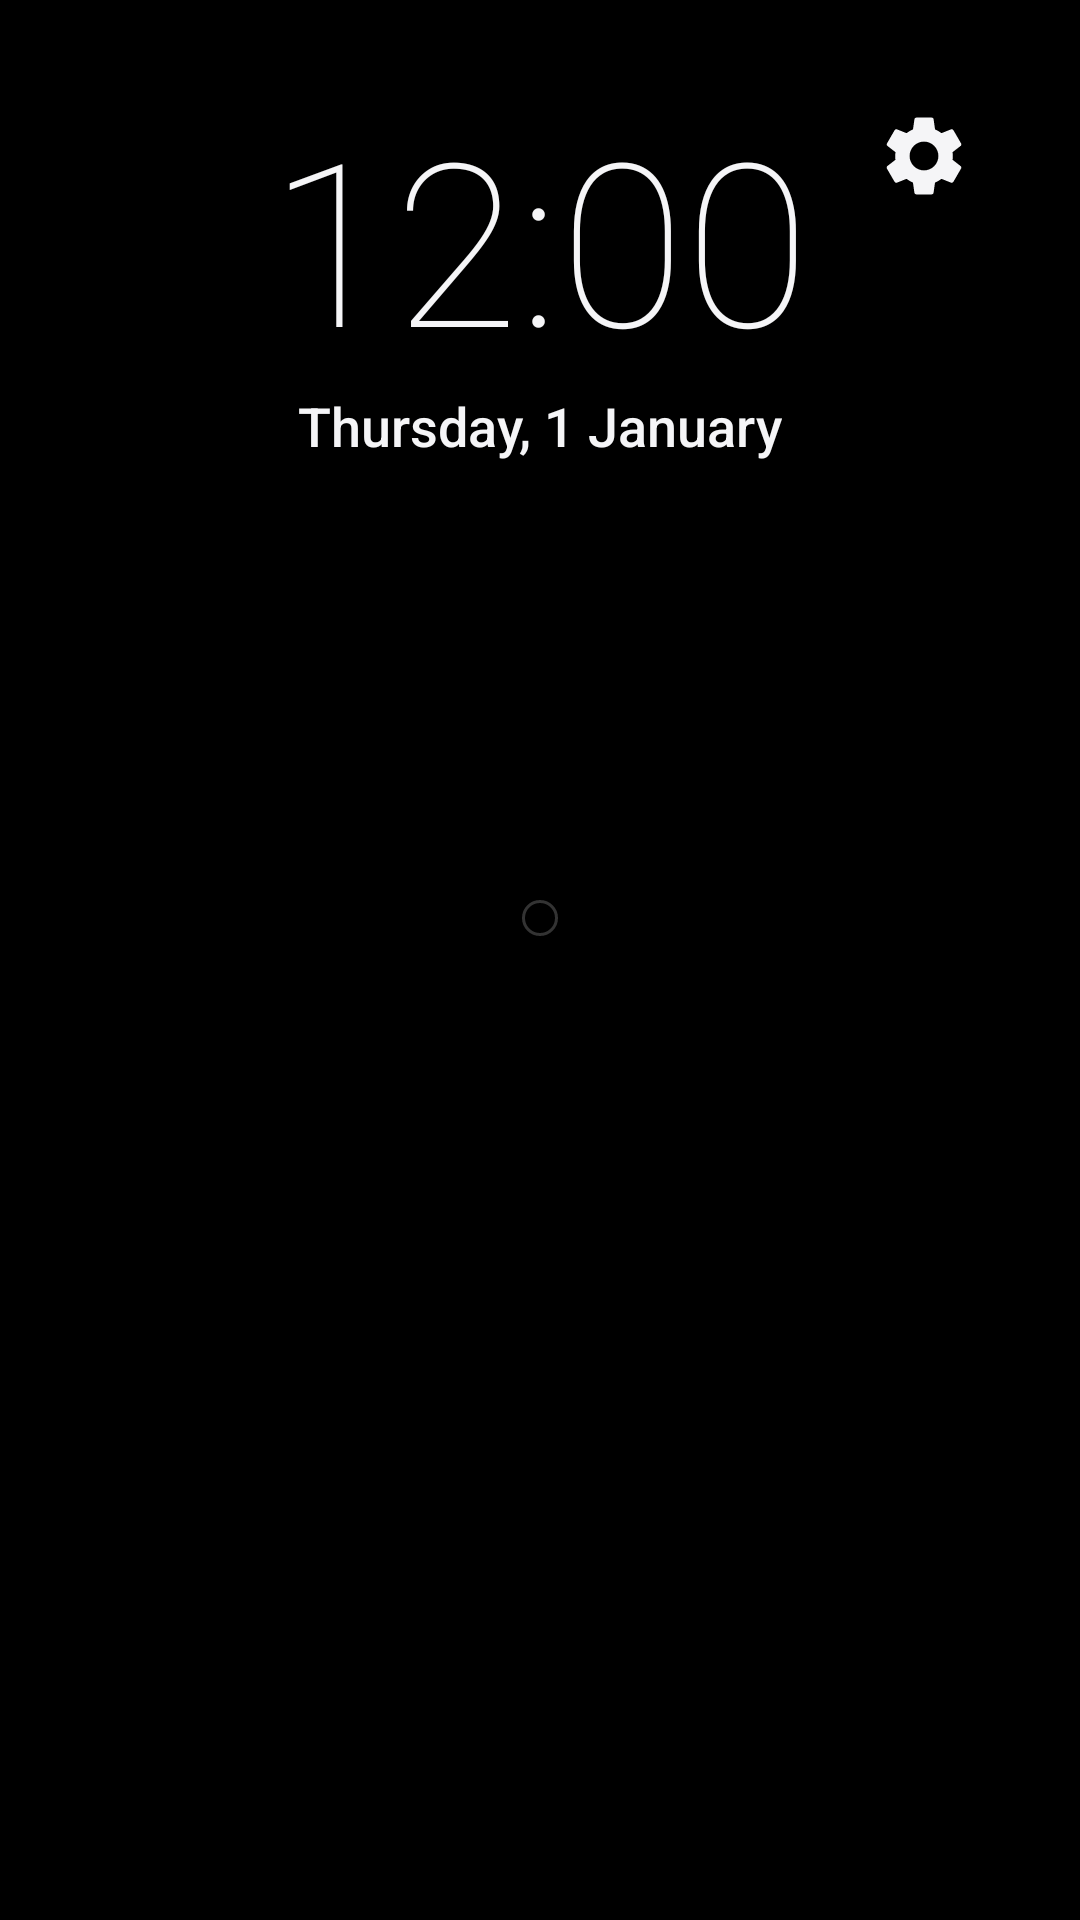

Named icons in this screenshot (1080px×1920px) and their centers, [x,y]:
Settings: [924,156]
